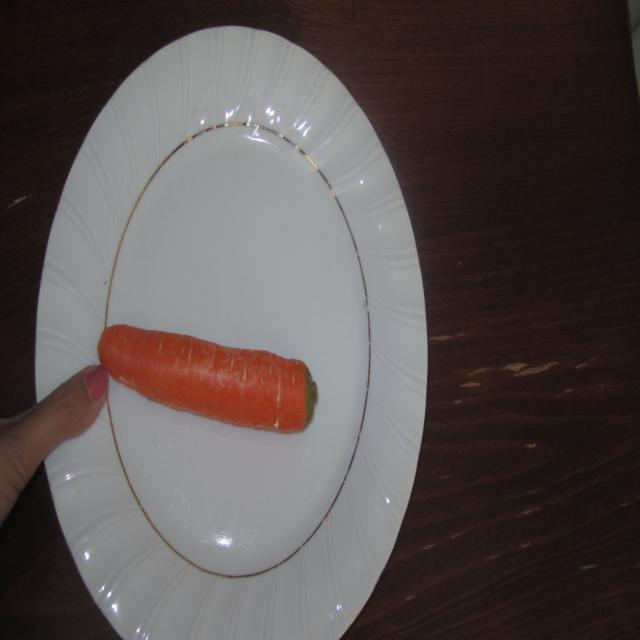Carrot: (98, 316, 321, 446)
Finger: (44, 370, 116, 445)
